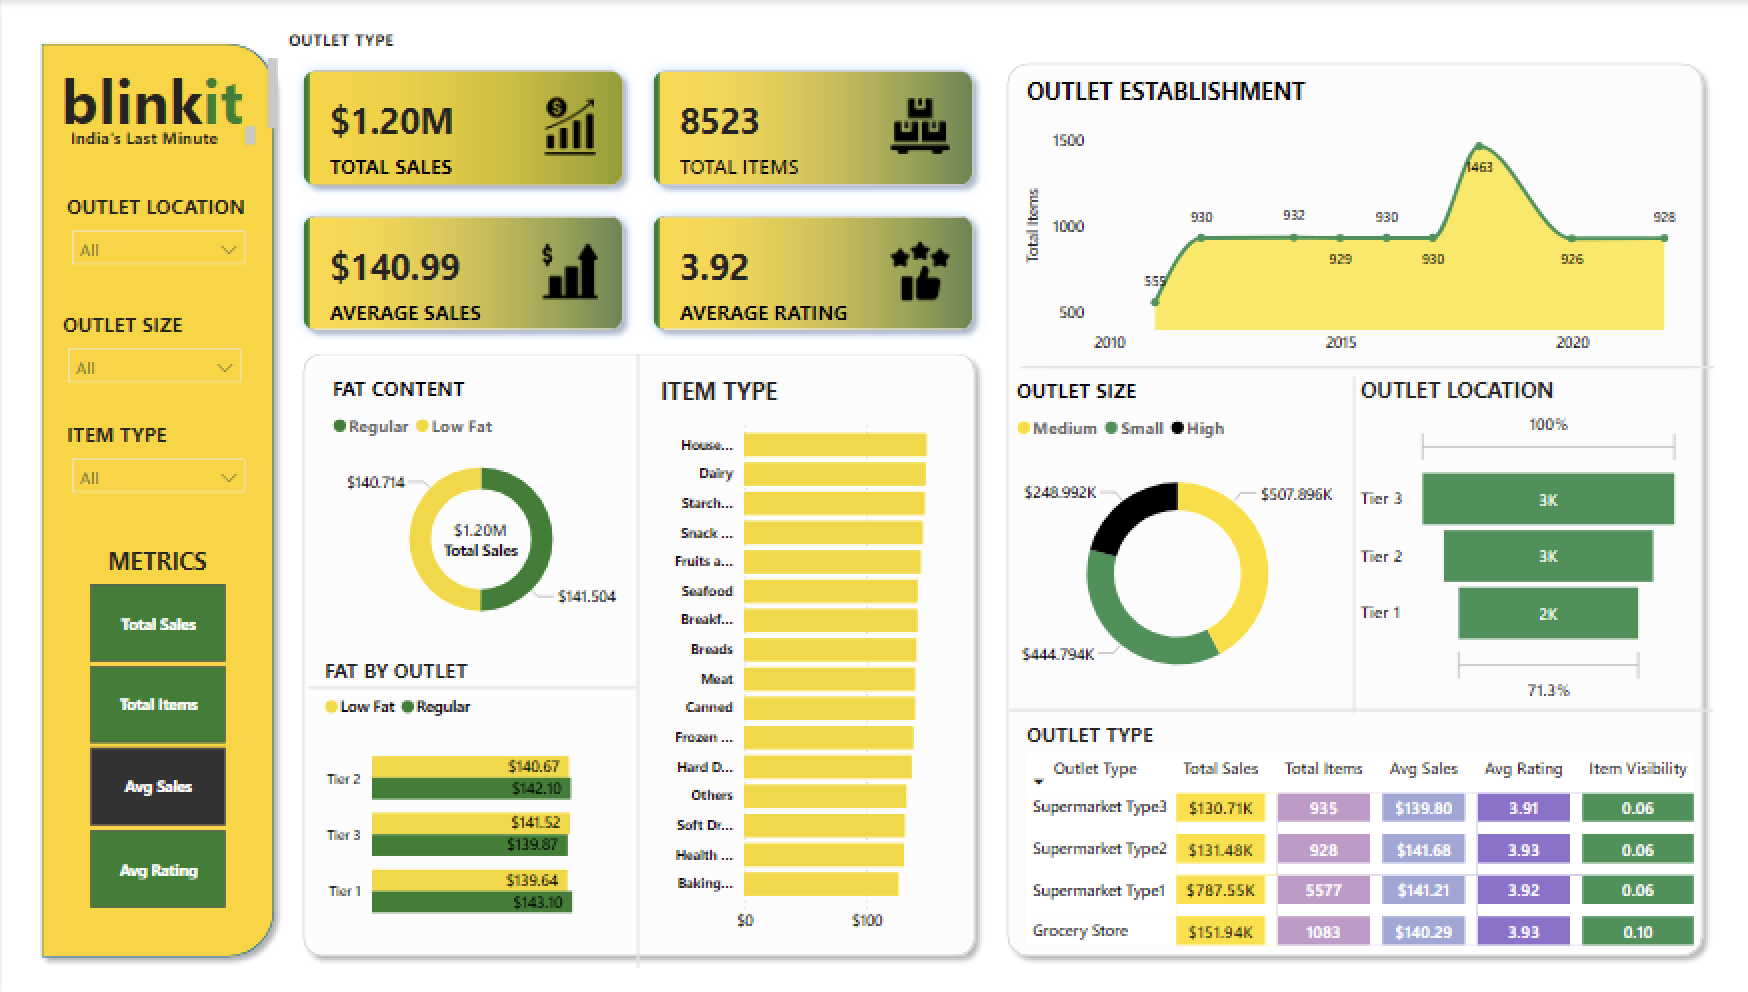

The dashboard page shown, as its layout file describes it:
{"tool":"powerbi","page":{"name":"Dashboard","canvas":[1400,800],"ordinal":0},"visuals":[{"type":"shape","box":[22.7,25.2,204.3,749.2],"z":0},{"type":"textbox","box":[22.4,41.6,203.2,70.4],"z":1000},{"type":"textbox","box":[49.6,96,158.4,30.4],"z":2000},{"type":"cardVisual","title":"OUTLET TYPE","fields":{"Data":["BlinkIT Grocery Data.Total Sales","BlinkIT Grocery Data.Total Items","BlinkIT Grocery Data.Avg Sales","BlinkIT Grocery Data.Avg Rating"]},"box":[224.5,22.8,570.7,260.6],"z":3000},{"type":"shape","box":[232.1,273.9,555.4,500.3],"z":4000},{"type":"donutChart","title":"FAT CONTENT","fields":{"Y":["BlinkIT Grocery Data.Avg Rating"],"Category":["BlinkIT Grocery Data.Item Fat Content"]},"box":[259.2,299.2,248,214.4],"z":5000},{"type":"slicer","title":"METRICS","fields":{"Values":["Metrics.Metrics"]},"box":[44.8,435.2,158.4,297.6],"z":6000},{"type":"cardVisual","fields":{"Data":["BlinkIT Grocery Data.Total Sales"]},"box":[324.8,382.4,116.8,99.2],"z":7000},{"type":"clusteredBarChart","title":"FAT BY OUTLET","fields":{"Y":["BlinkIT Grocery Data.Avg Rating"],"Series":["BlinkIT Grocery Data.Item Fat Content"],"Category":["BlinkIT Grocery Data.Outlet Location Type"]},"box":[252.8,524.8,249.6,230.4],"z":8000},{"type":"shape","box":[245.4,545.9,262.5,9.5],"z":9000},{"type":"shape","box":[502.4,283.2,12.8,491.2],"z":10000},{"type":"clusteredBarChart","title":"ITEM TYPE","fields":{"Y":["BlinkIT Grocery Data.Avg Rating"],"Category":["BlinkIT Grocery Data.Item Type"]},"box":[521.6,299.2,236.8,456],"z":11000},{"type":"shape","box":[795.1,41.8,574.5,732.3],"z":12000},{"type":"lineChart","title":"OUTLET ESTABLISHMENT","fields":{"Category":["BlinkIT Grocery Data.Outlet Establishment Year"],"Y":["BlinkIT Grocery Data.Total Items"]},"box":[814.1,59,534.5,234],"z":13000},{"type":"shape","box":[814.1,283.4,534.5,20.9],"z":14000},{"type":"donutChart","title":"OUTLET SIZE","fields":{"Y":["BlinkIT Grocery Data.Total Sales"],"Category":["BlinkIT Grocery Data.Outlet Size"]},"box":[806.5,300.5,268.2,266.3],"z":15000},{"type":"shape","box":[835.1,283.4,534.5,20.9],"z":16000},{"type":"shape","box":[1074.7,300.5,13.3,270.1],"z":17000},{"type":"funnel","title":"OUTLET LOCATION","fields":{"Y":["BlinkIT Grocery Data.Total Items"],"Category":["BlinkIT Grocery Data.Outlet Location Type"]},"box":[1082.3,298.6,266.3,268.2],"z":18000},{"type":"pivotTable","title":"OUTLET TYPE","fields":{"Rows":["BlinkIT Grocery Data.Outlet Type"],"Values":["BlinkIT Grocery Data.Total Sales","BlinkIT Grocery Data.Total Items","BlinkIT Grocery Data.Avg Sales","BlinkIT Grocery Data.Avg Rating","Avg(BlinkIT Grocery Data.Item Visibility)"]},"box":[814.1,570.7,568.8,203.5],"z":19000},{"type":"shape","box":[806.5,566.8,563,3.8],"z":20000},{"type":"slicer","title":"OUTLET LOCATION","fields":{"Values":["BlinkIT Grocery Data.Outlet Location Type"]},"box":[45.7,154.1,157.9,70.4],"z":20001},{"type":"slicer","title":"OUTLET SIZE","fields":{"Values":["BlinkIT Grocery Data.Outlet Size"]},"box":[43.8,247.3,157.9,70.4],"z":20002},{"type":"slicer","title":"ITEM TYPE","fields":{"Values":["BlinkIT Grocery Data.Item Type"]},"box":[45.7,336.7,157.9,70.4],"z":20003}]}

Visuals, with their boxes in screenshot pixels (x1, y1, x2, y2), scaled from the page's 1400x800 canvas onto the 1748x992 screenshot:
shape: x1=28 y1=31 x2=283 y2=960
textbox: x1=28 y1=52 x2=282 y2=139
textbox: x1=62 y1=119 x2=260 y2=157
"OUTLET TYPE" cardVisual: x1=280 y1=28 x2=993 y2=351
shape: x1=290 y1=340 x2=983 y2=960
"FAT CONTENT" donutChart: x1=324 y1=371 x2=633 y2=637
"METRICS" slicer: x1=56 y1=540 x2=254 y2=909
cardVisual - BlinkIT Grocery Data.Total Sales: x1=406 y1=474 x2=551 y2=597
"FAT BY OUTLET" clusteredBarChart: x1=316 y1=651 x2=627 y2=936
shape: x1=306 y1=677 x2=634 y2=689
shape: x1=627 y1=351 x2=643 y2=960
"ITEM TYPE" clusteredBarChart: x1=651 y1=371 x2=947 y2=936
shape: x1=993 y1=52 x2=1710 y2=960
"OUTLET ESTABLISHMENT" lineChart: x1=1016 y1=73 x2=1684 y2=363
shape: x1=1016 y1=351 x2=1684 y2=377
"OUTLET SIZE" donutChart: x1=1007 y1=373 x2=1342 y2=703
shape: x1=1043 y1=351 x2=1710 y2=377
shape: x1=1342 y1=373 x2=1358 y2=708
"OUTLET LOCATION" funnel: x1=1351 y1=370 x2=1684 y2=703
"OUTLET TYPE" pivotTable: x1=1016 y1=708 x2=1727 y2=960
shape: x1=1007 y1=703 x2=1710 y2=708
"OUTLET LOCATION" slicer: x1=57 y1=191 x2=254 y2=278
"OUTLET SIZE" slicer: x1=55 y1=307 x2=252 y2=394
"ITEM TYPE" slicer: x1=57 y1=418 x2=254 y2=505
